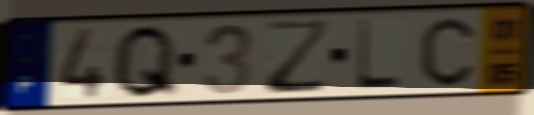3: (203, 22, 254, 96)
4: (58, 26, 109, 102)
C: (417, 15, 477, 89)
L: (353, 17, 404, 92)
Q: (109, 22, 181, 102)
Z: (263, 17, 333, 97)
